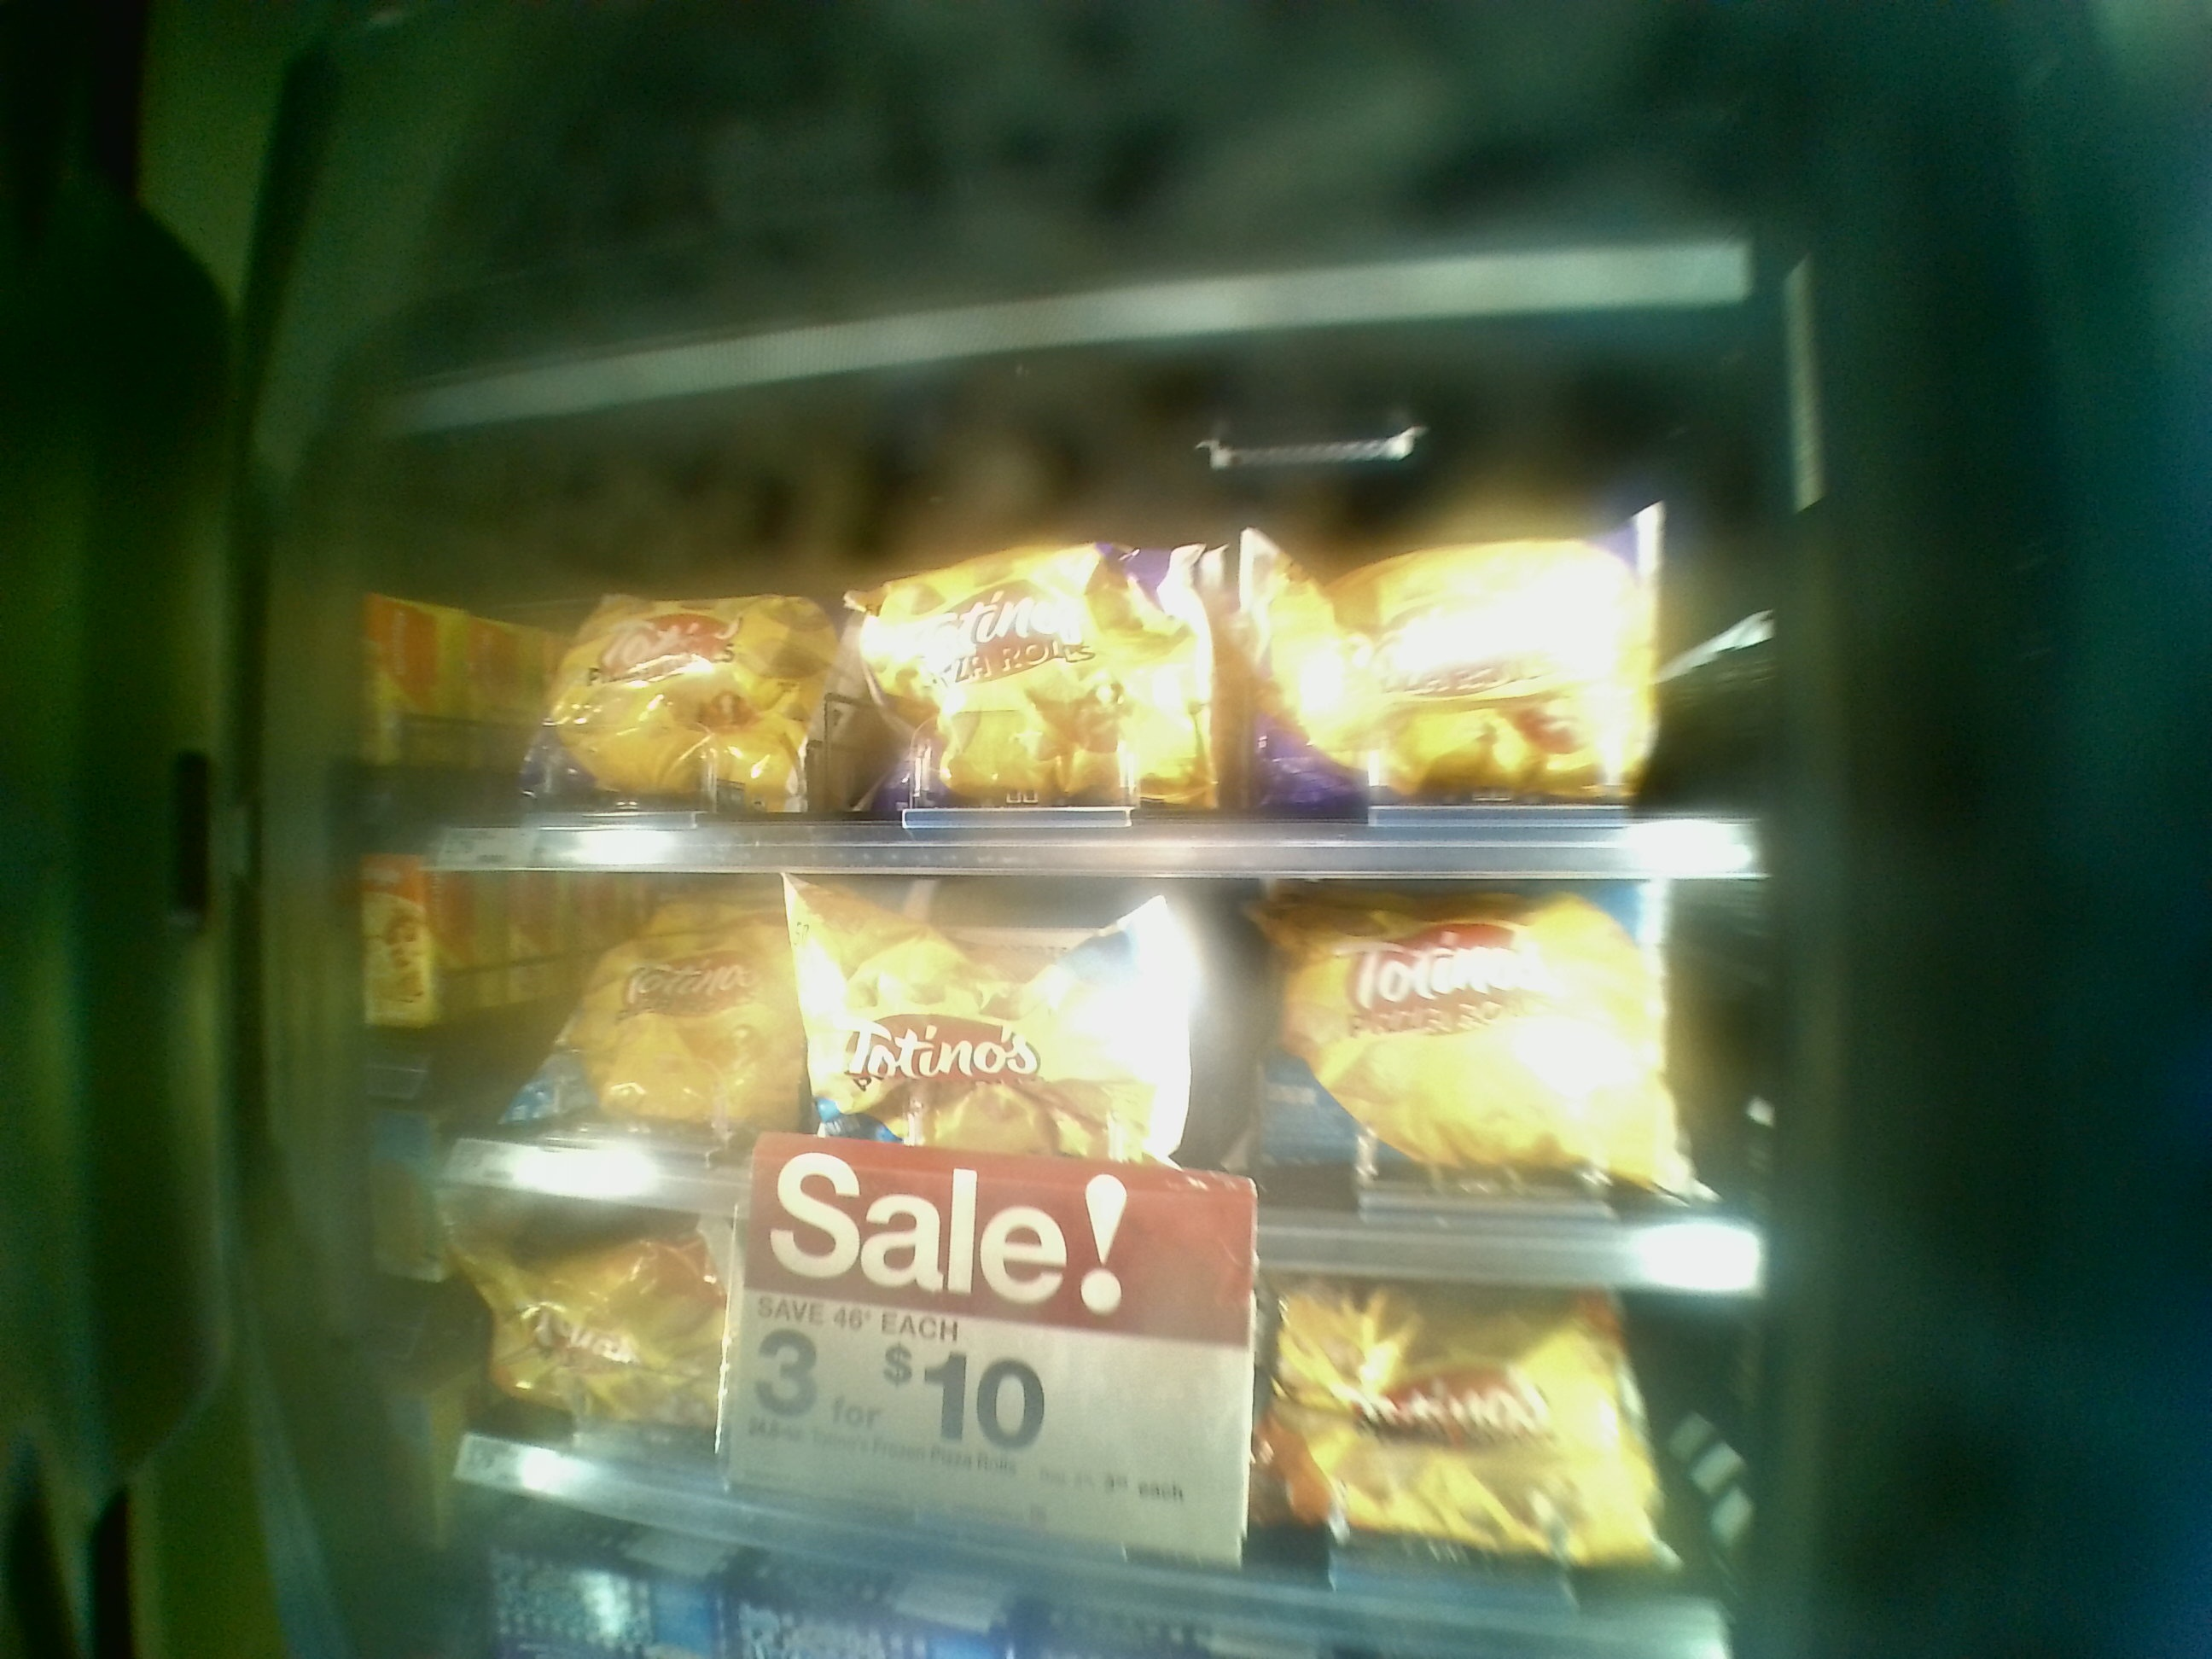shelf: (340, 823, 1757, 1286), (340, 1182, 1721, 1642), (371, 490, 1759, 859)
